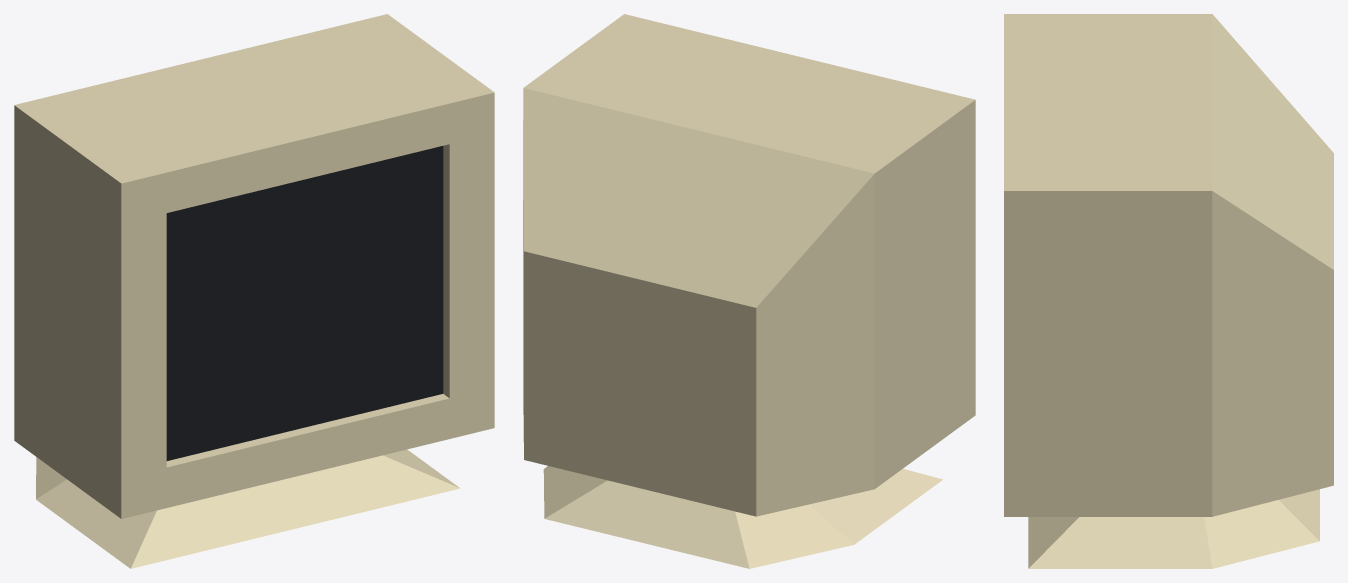
Rendered from Computer.fbx.
3 views of the same model, side by side, from view 1: azimuth 30°, elevation 25°; view 2: azimuth 150°, elevation 25°; view 3: azimuth 270°, elevation 25° (orthographic). The views are drawn at different scales.
Visible parts, largest first — view 1: Box001; view 2: Box001; view 3: Box001.
Part boxes in pixels (x1,y1,x2,y2): Box001: (14, 14, 494, 568); Box001: (523, 14, 975, 568); Box001: (1004, 14, 1333, 568).
Bounding box in the file's own units: 180 × 184 × 141.
